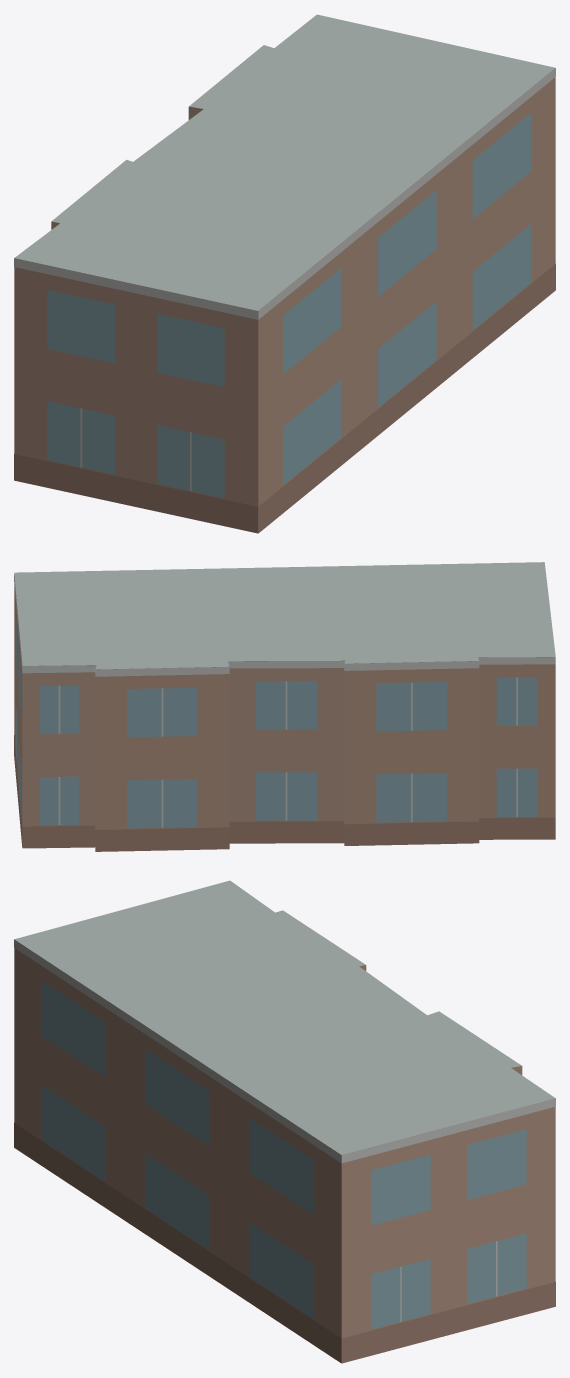
File: survey-upis-32720221.glb
3 views of the same model, one above another, from view 1: azimuth 30°, elevation 25°; view 2: azimuth 150°, elevation 25°; view 3: azimuth 270°, elevation 25° (orthographic). The views are drawn at different scales.
Parts seen in each view (by area): view 1: survey-upis-32720221.tmp; view 2: survey-upis-32720221.tmp; view 3: survey-upis-32720221.tmp.
Boxes of the visible parts, x1,y1,x2,y2 form: survey-upis-32720221.tmp: (14, 14, 555, 533); survey-upis-32720221.tmp: (14, 562, 555, 851); survey-upis-32720221.tmp: (14, 880, 555, 1363).
Bounding box in the file's own units: 17.26 × 6.1 × 14.38.
